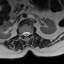CCS_normal: (25, 30, 27, 38)
LFS_normal: (30, 30, 32, 36)
LLS_normal: (28, 30, 30, 36)
RFS_normal: (21, 31, 23, 37)
RLS_normal: (23, 31, 25, 37)
